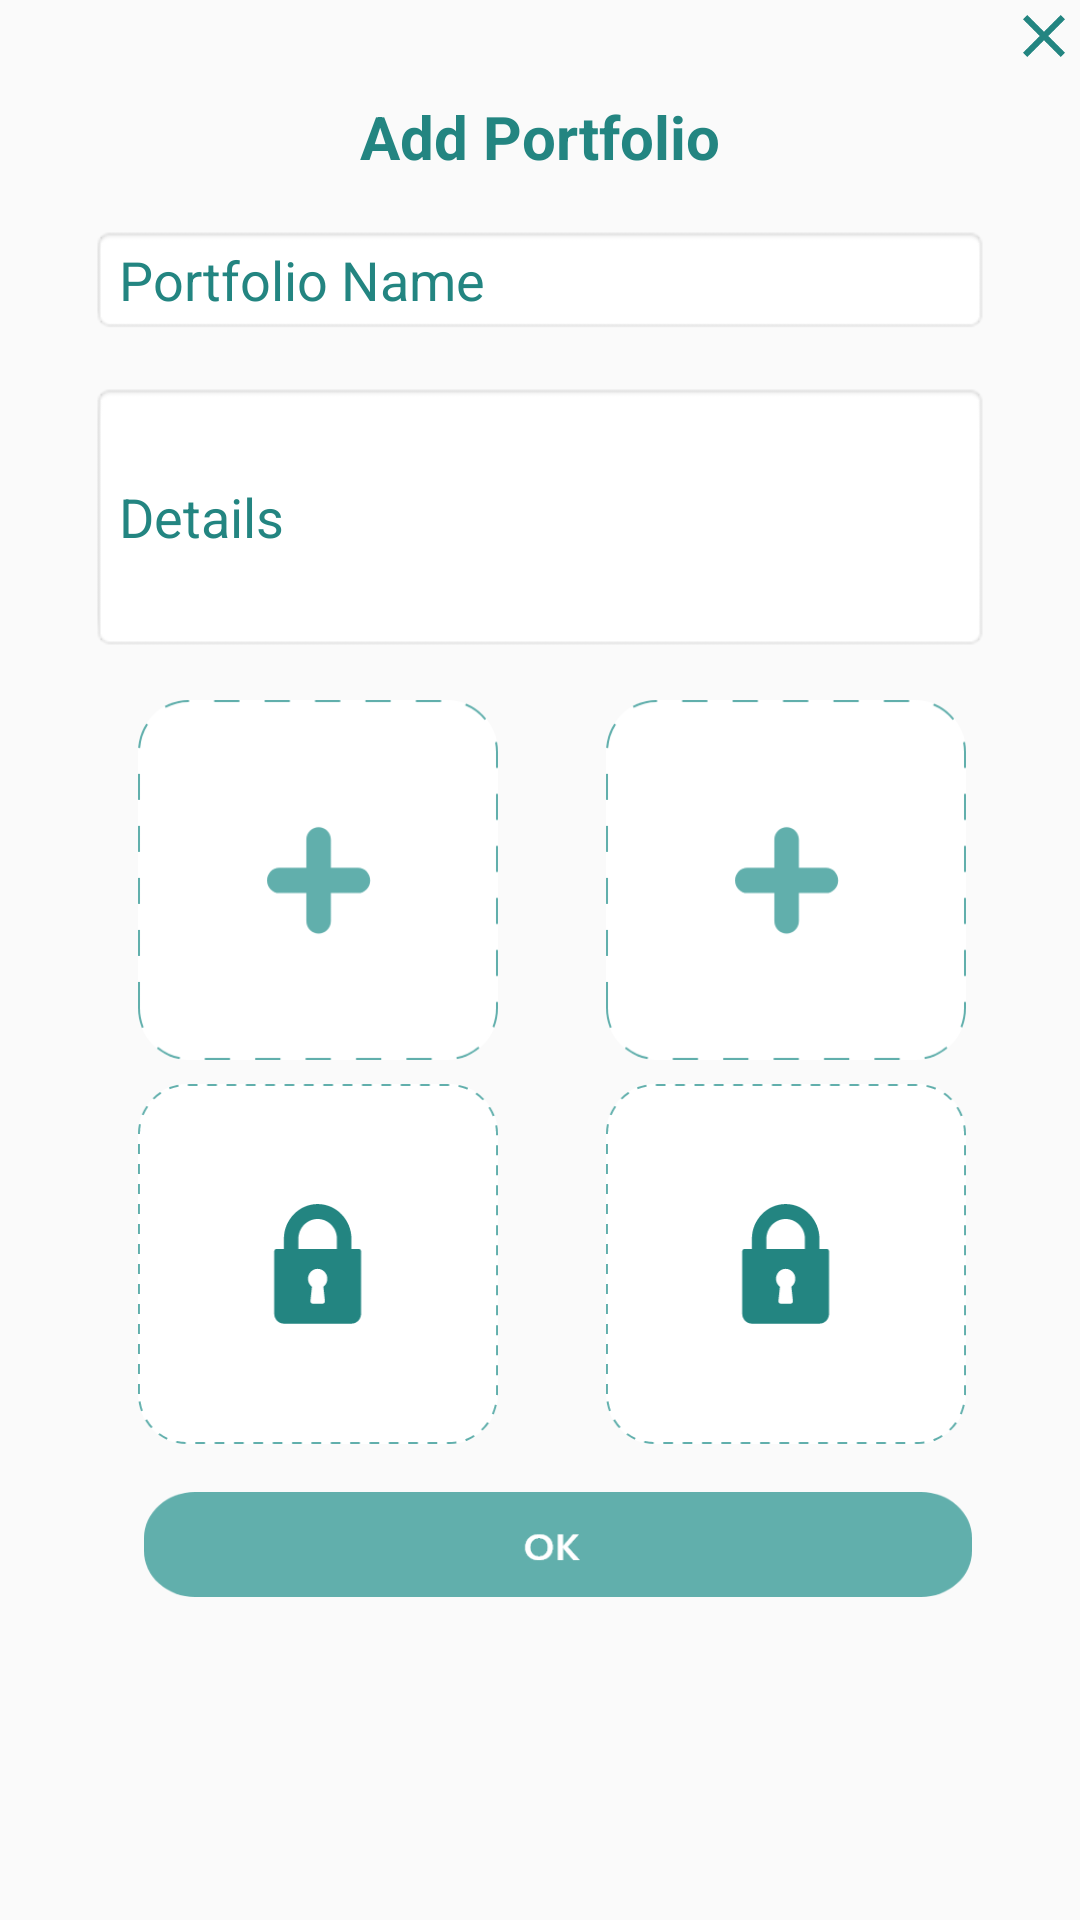

Where icons sit on this 1080*1920 app screen, as (x1, y1, x2, y2):
close: (1023, 15, 1065, 57)
lockport: (138, 1084, 498, 1444), (606, 1084, 966, 1444)
